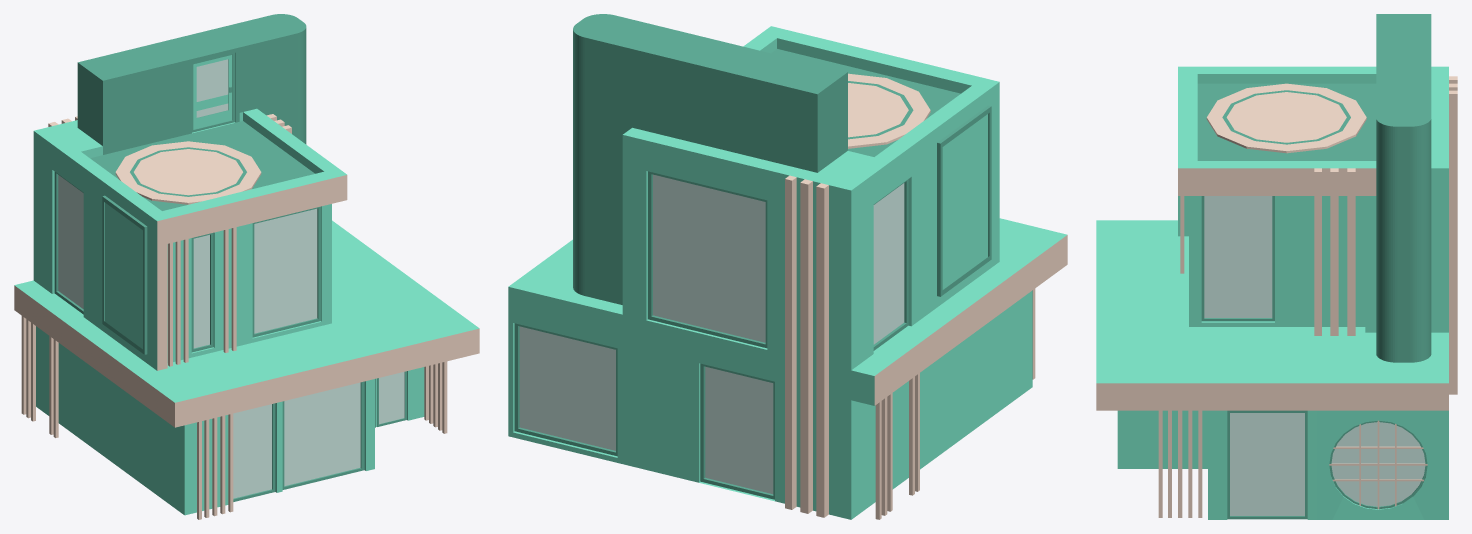
The model's file is Edificio2.fbx.
3 renders of one model, left to right at view 1: azimuth 30°, elevation 25°; view 2: azimuth 150°, elevation 25°; view 3: azimuth 270°, elevation 25°, orthographic. The views are drawn at different scales.
Parts seen in each view (by area): view 1: hospital; view 2: hospital; view 3: hospital.
Boxes of the visible parts, x1,y1,x2,y2 form: hospital: [14, 14, 479, 519]; hospital: [508, 14, 1067, 519]; hospital: [1096, 14, 1457, 519].
Size of the model in its own units: 1116 by 1188 by 1044.
